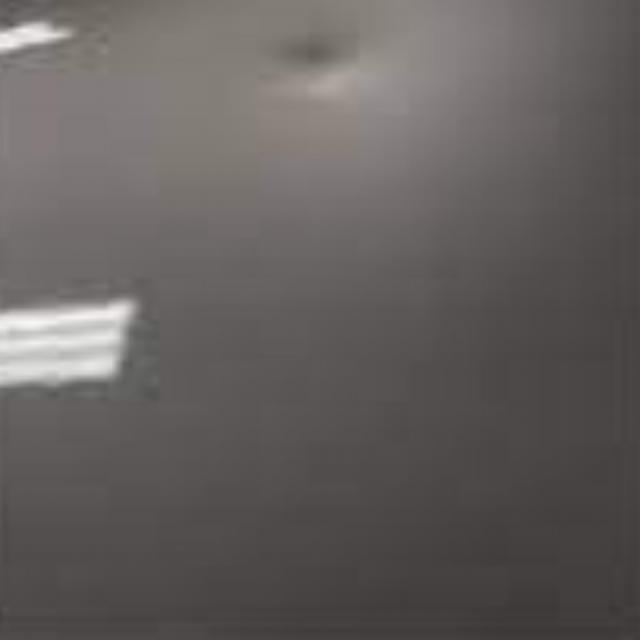dents: (246, 16, 424, 132)
